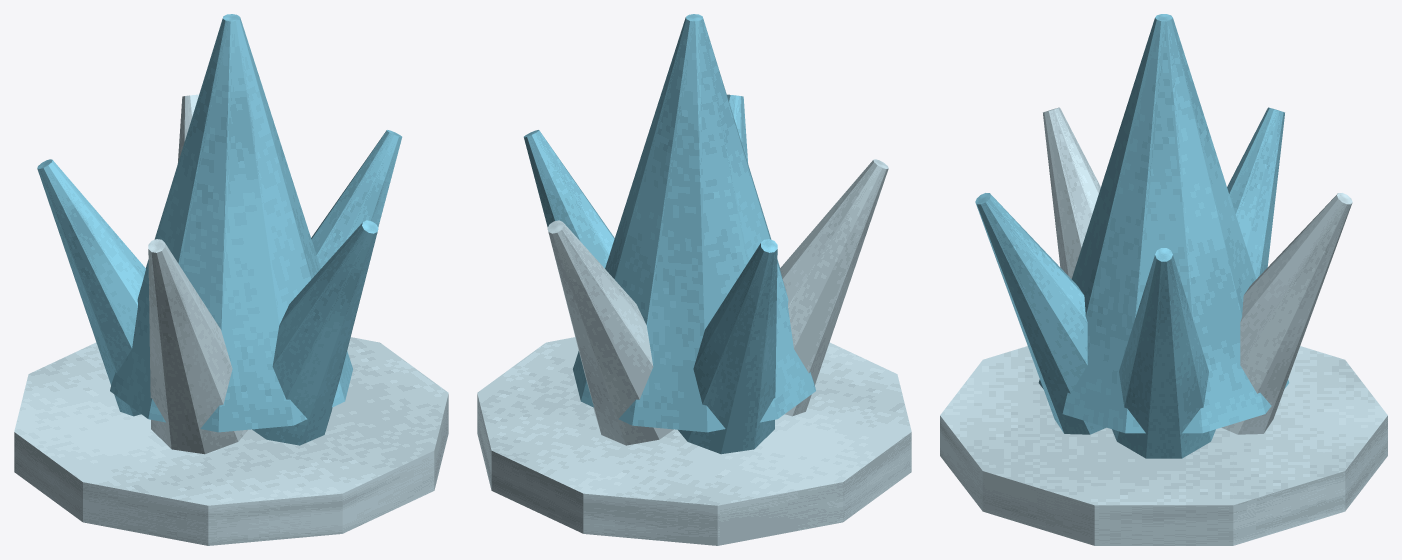
Rendered from pickup_freeze.glb.
3 renders of one model, left to right at view 1: azimuth 30°, elevation 25°; view 2: azimuth 150°, elevation 25°; view 3: azimuth 270°, elevation 25°, orthographic.
Visible parts, largest first — view 1: pickup_freeze; view 2: pickup_freeze; view 3: pickup_freeze.
Part boxes in pixels (x1,y1,x2,y2): pickup_freeze: (14, 14, 448, 545); pickup_freeze: (477, 14, 911, 545); pickup_freeze: (940, 14, 1387, 545).
Size of the model in its own units: 0.9511 by 1.08 by 1.
1 material, 1 textured.
